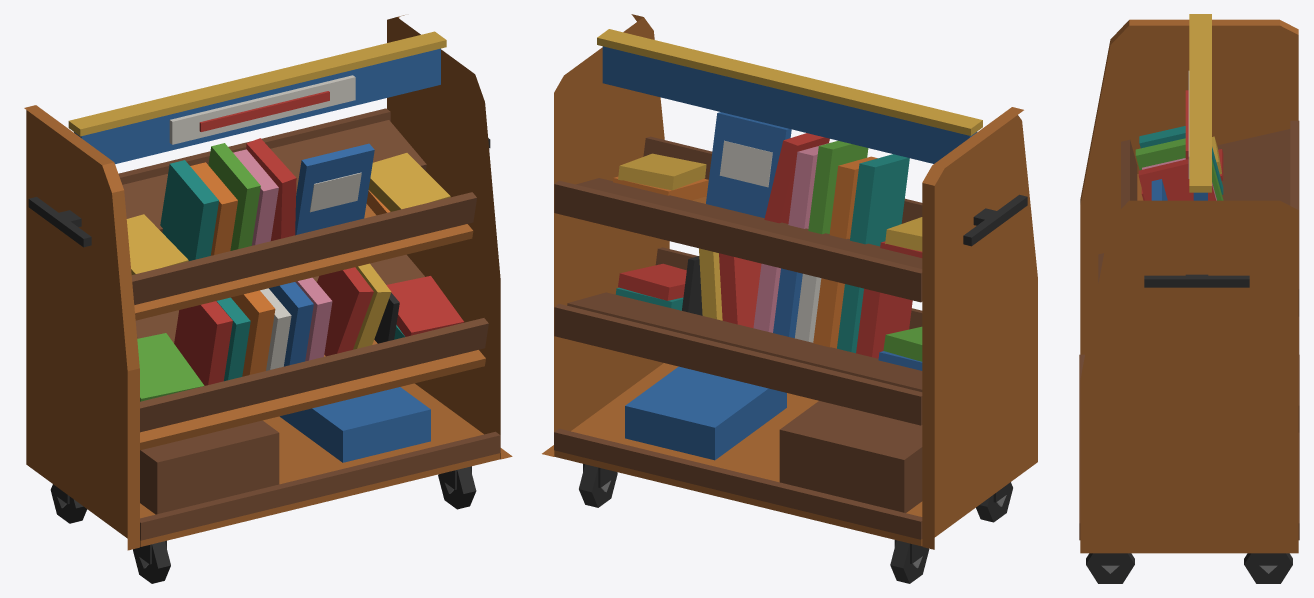
File: kitap_standi.glb
3 renders of one model, left to right at view 1: azimuth 30°, elevation 25°; view 2: azimuth 150°, elevation 25°; view 3: azimuth 270°, elevation 25°, orthographic. The views are drawn at different scales.
Parts seen in each view (by area): view 1: kitap_standi; view 2: kitap_standi; view 3: kitap_standi.
Boxes of the visible parts, x1,y1,x2,y2 form: kitap_standi: (24,15,512,583); kitap_standi: (542,14,1037,583); kitap_standi: (1079,14,1299,583).
Bounding box in the file's own units: 1.2 × 1.2 × 0.585.
